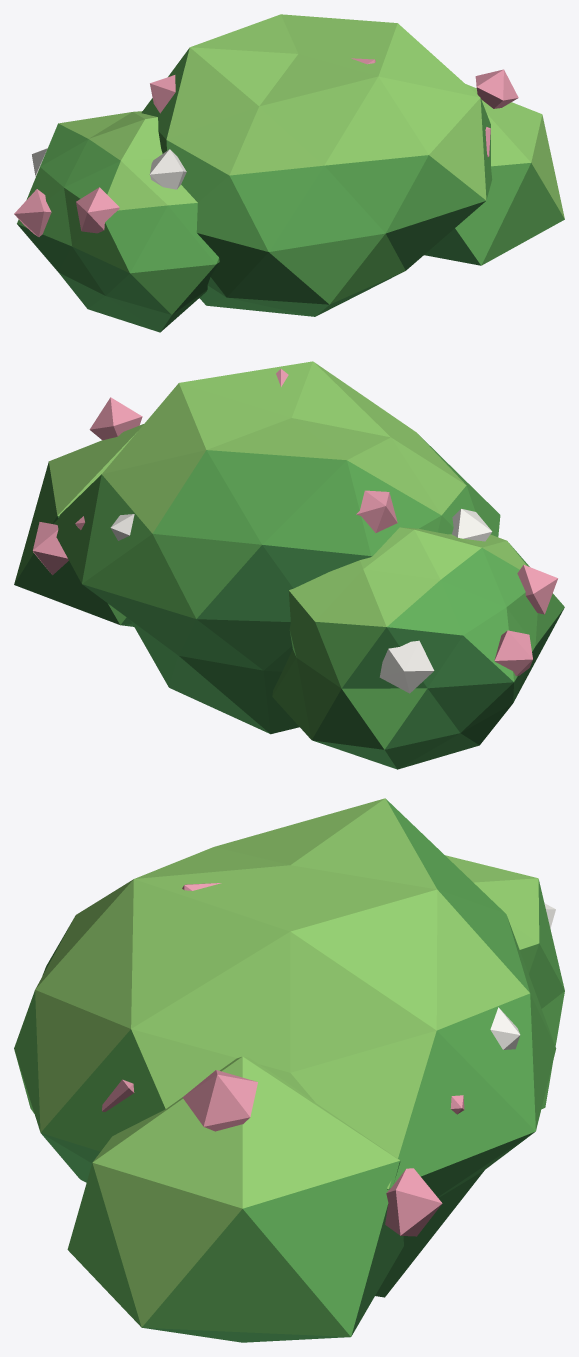
The model's file is bush_c.glb.
The picture shows the model from 3 angles, top to bottom: view 1: azimuth 30°, elevation 25°; view 2: azimuth 150°, elevation 25°; view 3: azimuth 270°, elevation 25°; orthographic projection. The views are drawn at different scales.
Visible parts, largest first — view 1: bush_c; view 2: bush_c; view 3: bush_c.
Part boxes in pixels (x1,y1,x2,y2): bush_c: (14, 14, 564, 332); bush_c: (14, 361, 564, 769); bush_c: (14, 798, 564, 1342).
Size of the model in its own units: 1.83 by 0.9144 by 1.15.
